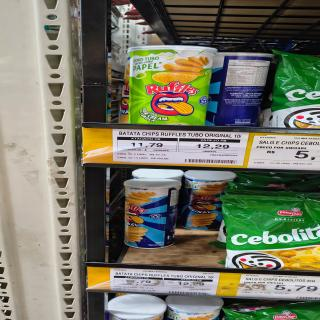food-box: (217, 196, 319, 272), (126, 43, 216, 123), (211, 52, 273, 127), (120, 179, 179, 250), (177, 171, 217, 234)
